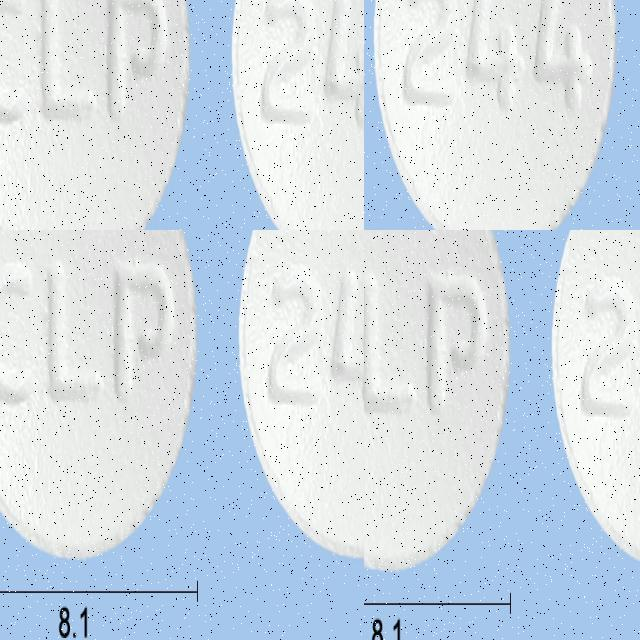Celltrion Levofloxacin: (364, 230, 515, 580), (549, 230, 640, 578)
Ciquroby: (0, 230, 206, 564), (232, 230, 364, 561)
Clabio: (0, 80, 307, 230)
Clribio: (364, 0, 640, 63)
